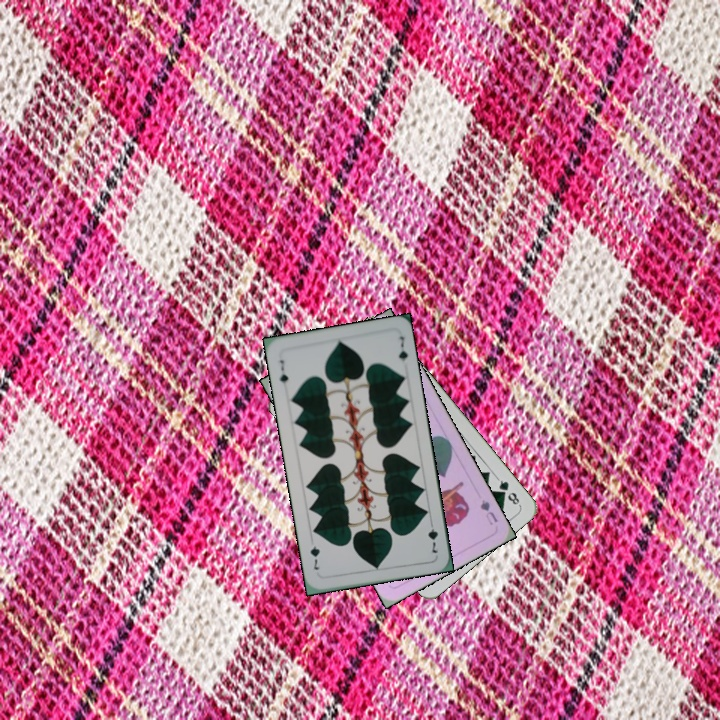G7: (424, 516, 441, 556), (275, 356, 291, 391)
G8: (493, 474, 523, 508)
GU: (476, 495, 500, 528)
